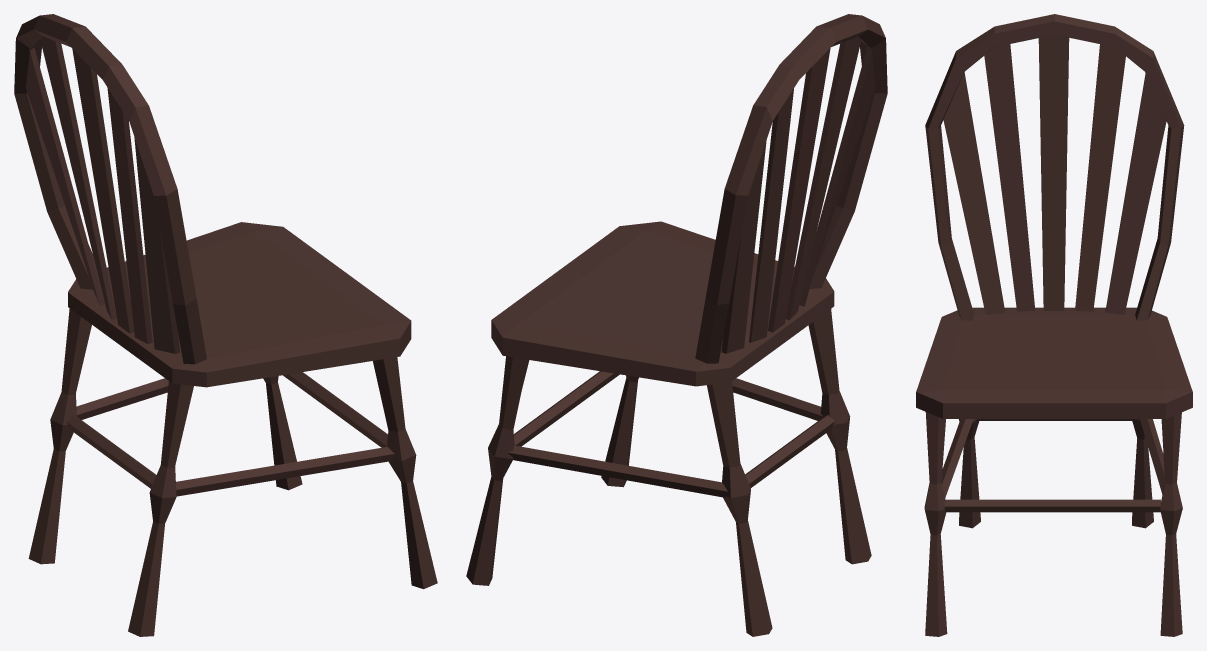
The model's file is NormalChair.fbx.
3 views of the same model, side by side, from view 1: azimuth 30°, elevation 25°; view 2: azimuth 150°, elevation 25°; view 3: azimuth 270°, elevation 25° (orthographic). The views are drawn at different scales.
Visible parts, largest first — view 1: Cube, Cylinder.004, Cylinder.003, Cube.001, Cylinder.002, Cylinder, Cube.002, Cube.005, Cube.003, Cube.004, Cylinder.006, Cylinder.001 (+3 smaller); view 2: Cube, Cylinder.004, Cylinder.002, Cylinder.003, Cube.001, Cylinder.001, Cube.002, Cube.005, Cube.003, Cylinder.007, Cube.004, Cylinder (+3 smaller); view 3: Cube, Cylinder.004, Cube.001, Cube.002, Cube.005, Cube.003, Cube.004, Cylinder.001, Cylinder, Cylinder.005, Cylinder.002, Cylinder.003 (+2 smaller).
Part boxes in pixels (x1,y1,x2,y2): Cube: [68, 222, 411, 387]; Cylinder.004: [14, 14, 206, 364]; Cylinder.003: [128, 381, 193, 636]; Cube.001: [72, 49, 134, 333]; Cylinder.002: [28, 308, 91, 564]; Cylinder: [373, 357, 437, 589]; Cube.002: [107, 87, 152, 343]; Cube.005: [40, 37, 116, 320]; Cube.003: [134, 137, 180, 353]; Cube.004: [26, 47, 104, 305]; Cylinder.006: [176, 447, 394, 496]; Cylinder.001: [263, 376, 302, 490]; Cube: [491, 221, 834, 386]; Cylinder.004: [695, 14, 887, 363]; Cylinder.002: [707, 381, 772, 636]; Cylinder.003: [808, 309, 871, 564]; Cube.001: [768, 48, 830, 332]; Cylinder.001: [466, 356, 529, 585]; Cube.002: [785, 37, 861, 320]; Cube.005: [749, 89, 793, 342]; Cube.003: [799, 46, 875, 306]; Cylinder.007: [507, 445, 727, 497]; Cube.004: [721, 140, 766, 353]; Cylinder: [601, 375, 638, 487]; Cube: [916, 307, 1192, 418]; Cylinder.004: [925, 14, 1184, 320]; Cube.001: [1038, 34, 1069, 310]; Cube.002: [984, 43, 1034, 311]; Cube.005: [1075, 44, 1125, 311]; Cube.003: [943, 72, 1004, 314]; Cube.004: [1105, 73, 1166, 314]; Cylinder.001: [1160, 412, 1182, 636]; Cylinder: [924, 412, 947, 636]; Cylinder.005: [944, 499, 1160, 512]; Cylinder.002: [1132, 419, 1153, 528]; Cylinder.003: [959, 419, 980, 528].
Size of the model in its own units: 137 by 249 by 125.
